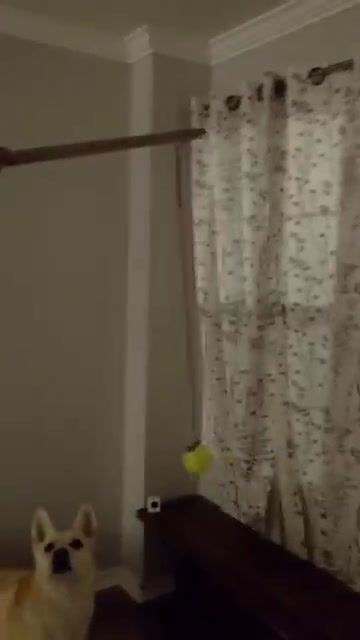tennis_ball: (180, 442, 213, 473)
